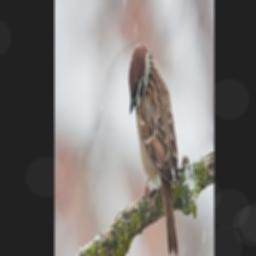Sparrow: (128, 40, 179, 256)
